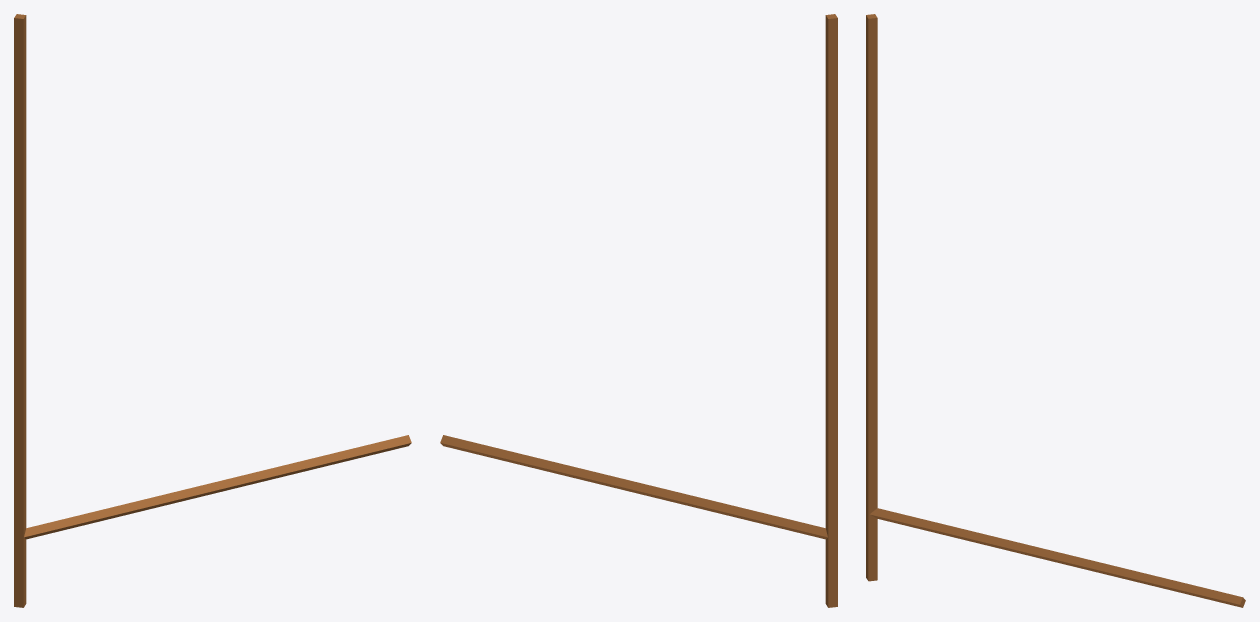
The picture shows the model from 3 angles, left to right: view 1: azimuth 30°, elevation 25°; view 2: azimuth 150°, elevation 25°; view 3: azimuth 330°, elevation 25°; orthographic projection. The views are drawn at different scales.
Visible parts, largest first — view 1: 桅杆与横桁.001; view 2: 桅杆与横桁.001; view 3: 桅杆与横桁.001.
Boxes of the visible parts, box(x1,y1,x2,y2) form: 桅杆与横桁.001: box(14, 14, 411, 607); 桅杆与横桁.001: box(440, 14, 837, 607); 桅杆与横桁.001: box(866, 14, 1245, 607).
Size of the model in its own units: 0.589 by 0.84 by 0.018.
